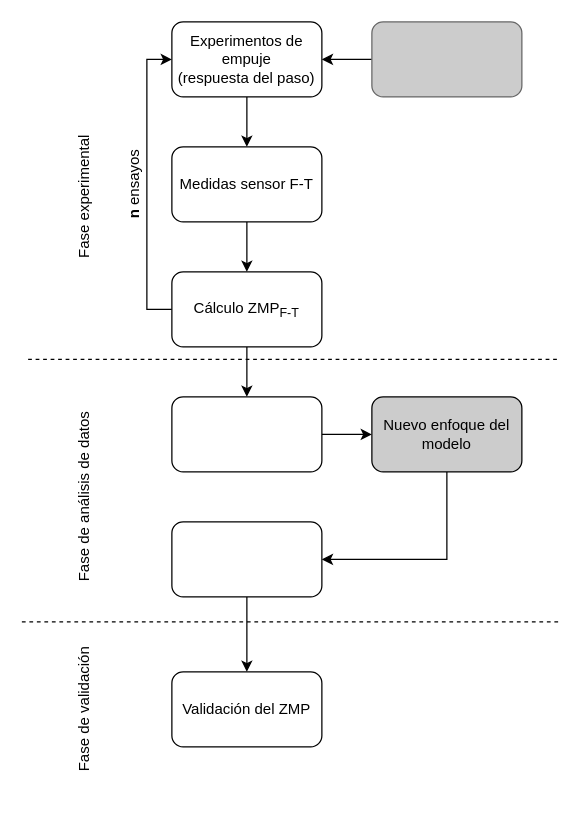
Image size: 583x819. Some labels were removed from this diagram. The centre of each missing label's shape, as x and y in pixels:
Compensación del error del ZMP: the point at 246,559
Modelado del error del ZMP: the point at 246,434
Modelo clásico: the point at 446,59
